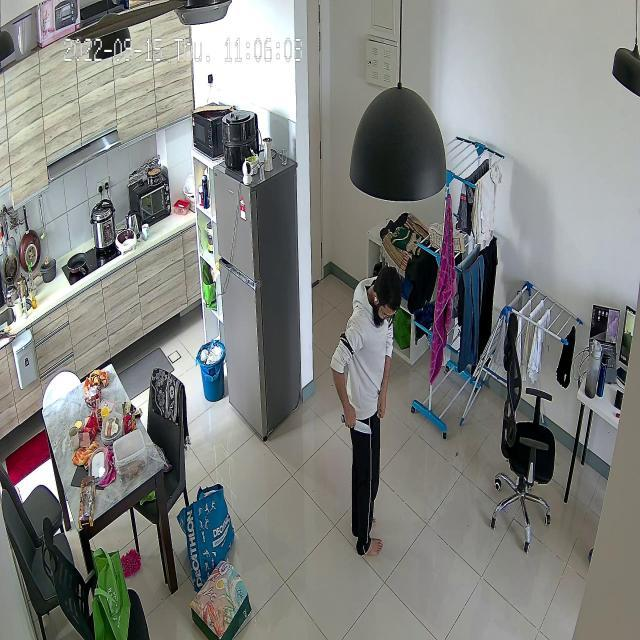Knife: (337, 402, 375, 446)
